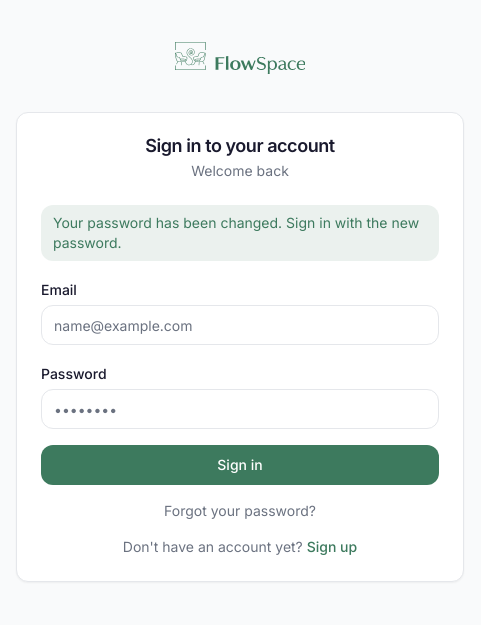
it: Sign-in page in English (B65) › renders the English copy, field errors and the failed sign-in without Portuguese
Expected: the heading "Sign in to your account" is shown, [145, 135, 335, 156]
Expected: the message shows "Your password has been changed", [53, 214, 419, 251]
Click the button "Sign in": [240, 465] box [41, 445, 439, 485]
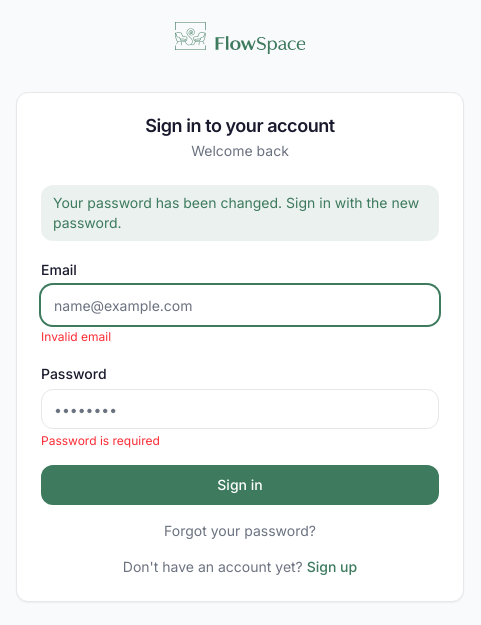
Expected: the text "Invalid email" is shown, [41, 329, 111, 344]
Expected: the text "Password is required" is shown, [41, 433, 160, 448]
In the field labelled "Email": [240, 305] box [41, 285, 439, 325], type "me@test.com"
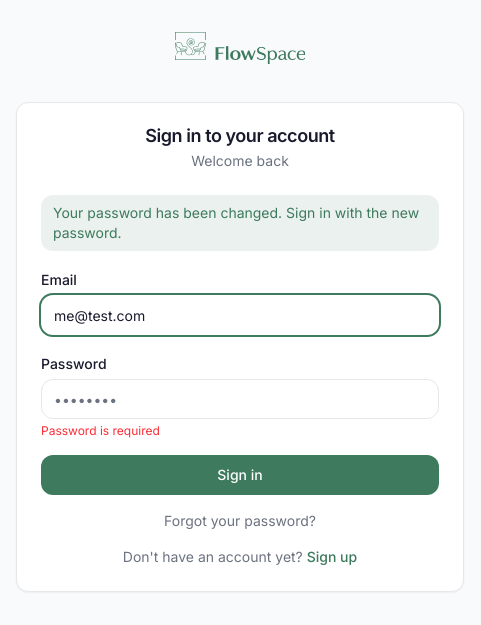
In the password field labelled "Password": [240, 399] box [41, 379, 439, 419], type "wrong-one"
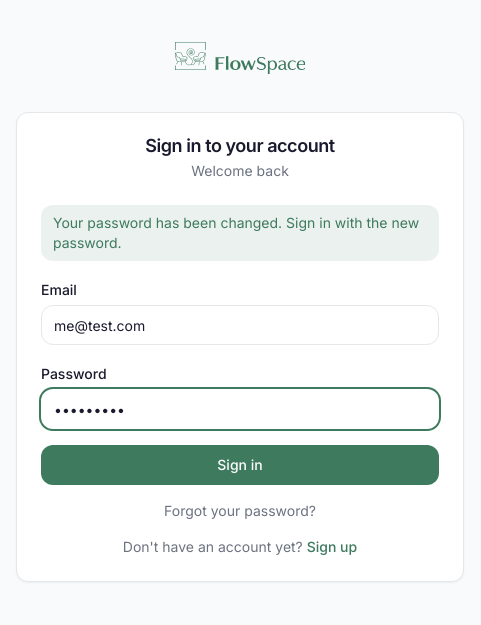
Click the button "Sign in": [240, 465] box [41, 445, 439, 485]
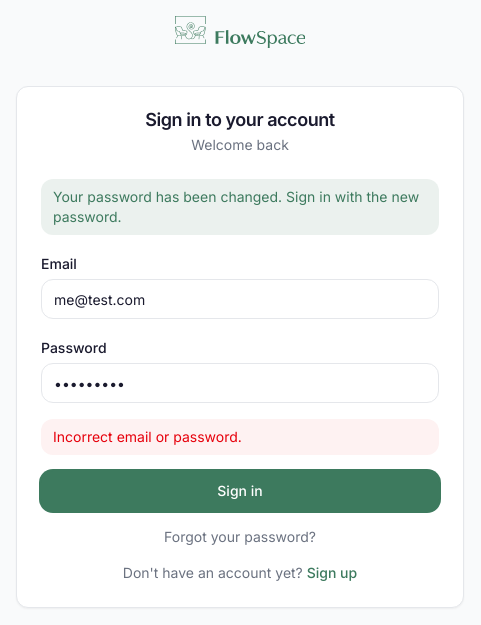
Expected: the text "Incorrect email or password." is shown, [41, 419, 439, 455]
